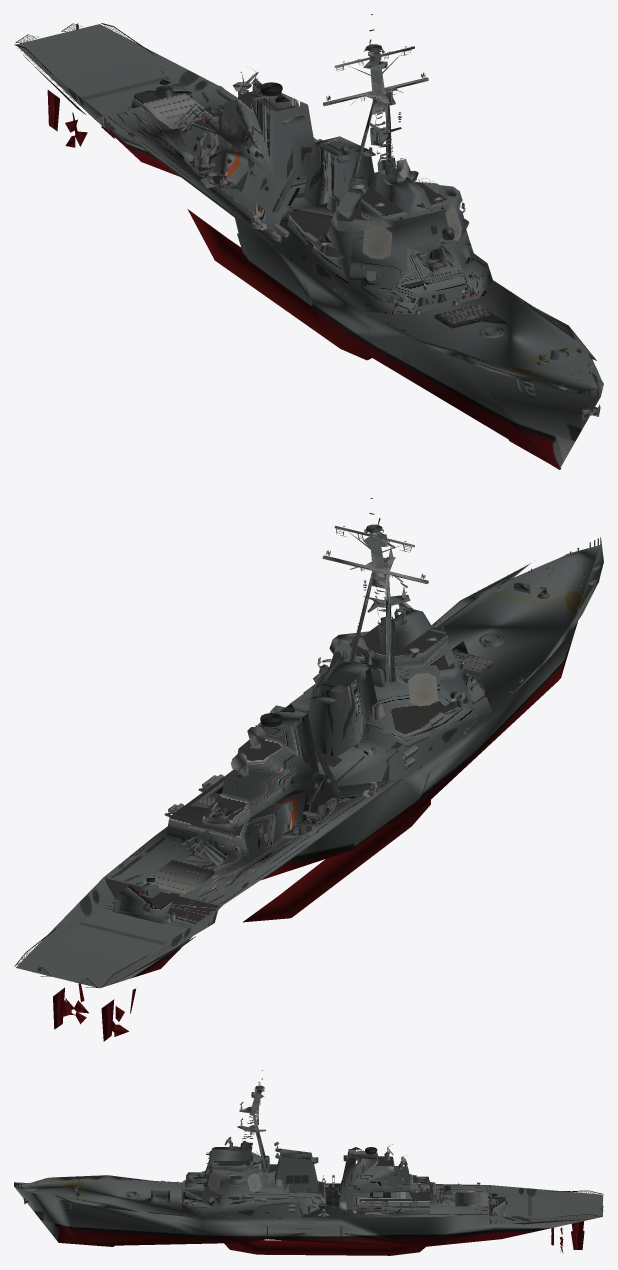
File: ship_destroyer-lo.glb
3 views of the same model, one above another, from view 1: azimuth 30°, elevation 25°; view 2: azimuth 150°, elevation 25°; view 3: azimuth 270°, elevation 25° (orthographic). The views are drawn at different scales.
Size of the model in its own units: 7.35 by 15.44 by 46.
5 materials, 5 textured.
